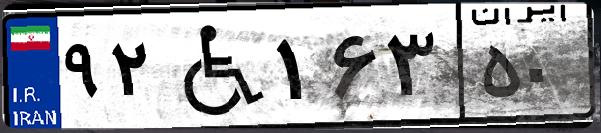0: (525, 38, 570, 115)
1: (270, 28, 330, 110)
2: (110, 28, 158, 98)
3: (385, 28, 445, 110)
5: (475, 38, 525, 113)
6: (330, 28, 385, 110)
9: (57, 26, 110, 100)
ژ (معلولین و جانبازان): (158, 12, 270, 120)
